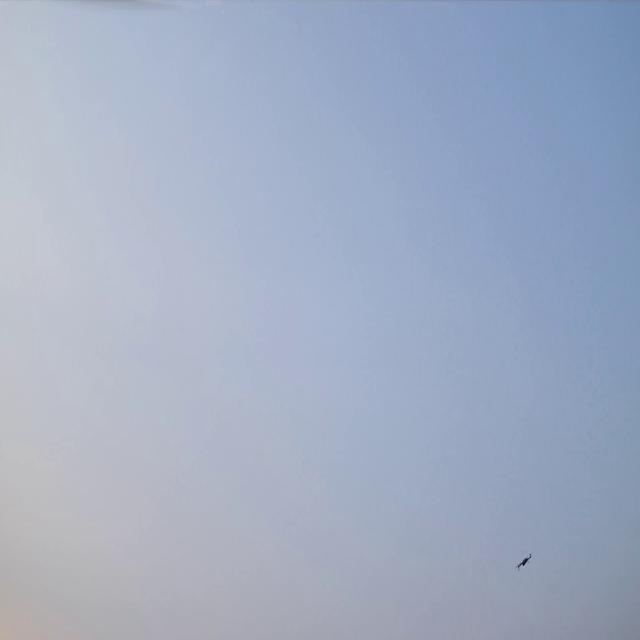drone: (515, 553, 531, 570)
